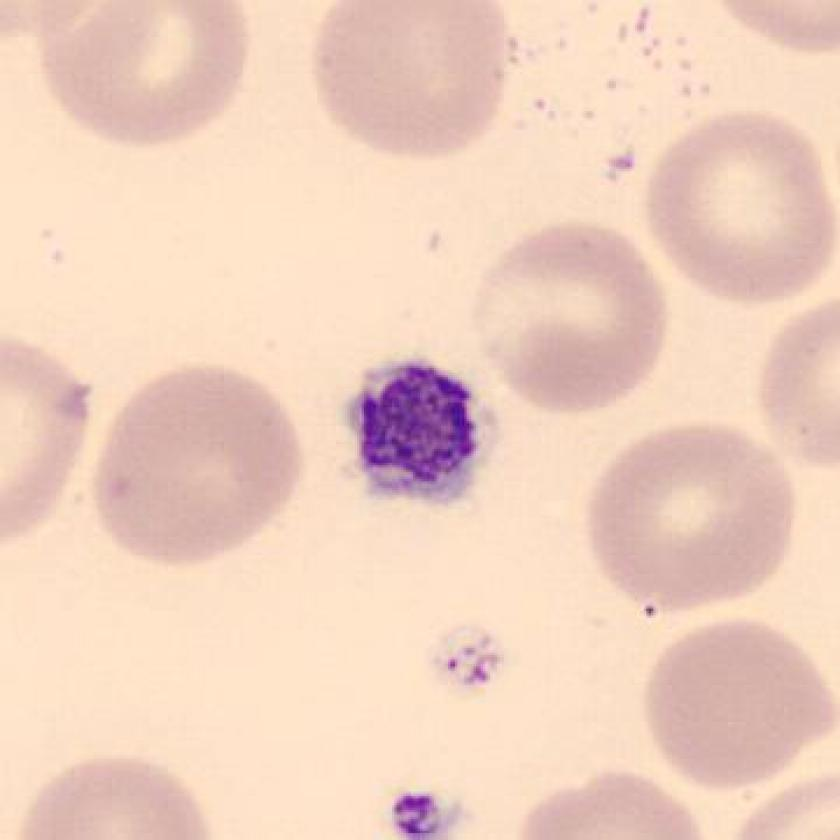platelets: (344, 355, 500, 519), (383, 778, 451, 840)
